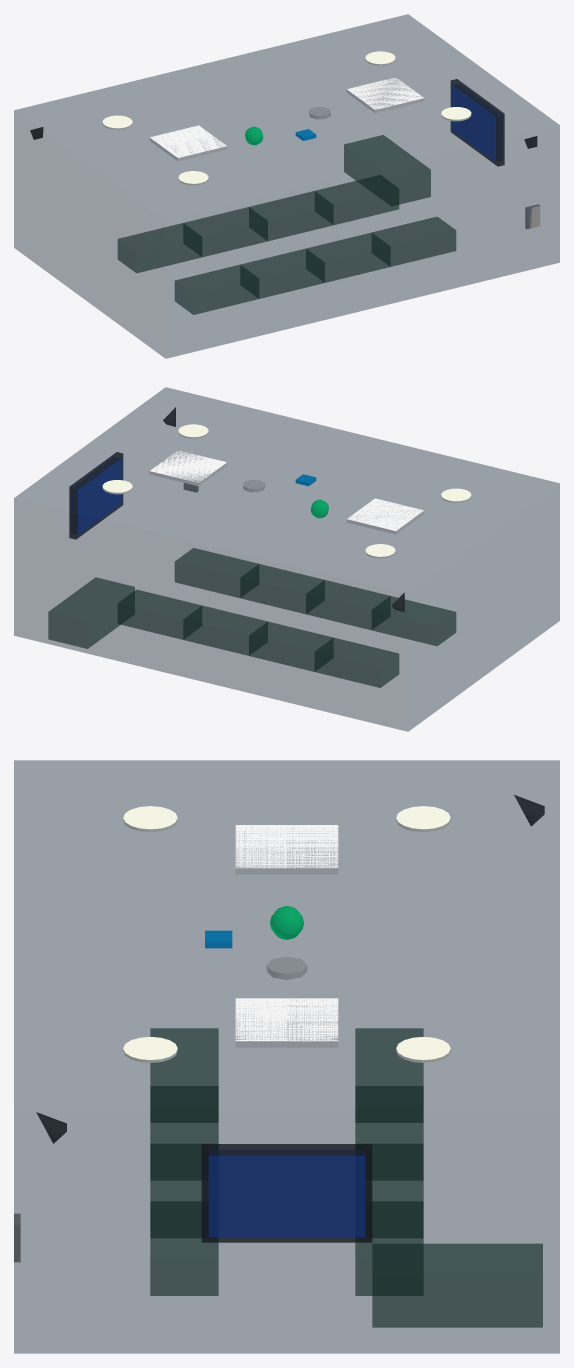
3 views of the same model, one above another, from view 1: azimuth 30°, elevation 25°; view 2: azimuth 150°, elevation 25°; view 3: azimuth 270°, elevation 25° (orthographic). The views are drawn at different scales.
Parts seen in each view (by area): view 1: Arch:WALL_L3-T3, object 17, object 2, object 6, object 10, object 8, object 3, object 7, object 9, object 4, object 5, object 11 (+2 smaller); view 2: Arch:WALL_L3-T3, object 17, object 2, object 10, object 6, object 9, object 4, object 7, object 3, object 8, object 5, object 11 (+2 smaller); view 3: Arch:WALL_L3-T3, object 10, object 17, object 11, object 9, Device:AC1_L3-T3, Device:AC2_L3-T3, object 3, object 7, object 2, object 6, object 5 (+8 smaller).
Boxes of the visible parts, x1,y1,x2,y2 form: Arch:WALL_L3-T3: (14, 14, 559, 358); object 17: (344, 135, 430, 204); object 2: (118, 223, 201, 272); object 6: (175, 265, 258, 314); object 10: (450, 79, 504, 166); object 8: (306, 233, 390, 282); object 3: (184, 207, 267, 256); object 7: (241, 249, 324, 298); object 9: (372, 217, 455, 266); object 4: (249, 191, 333, 240); object 5: (315, 176, 398, 224); object 11: (452, 85, 495, 161); Arch:WALL_L3-T3: (14, 387, 559, 731); object 17: (48, 577, 134, 648); object 2: (315, 638, 398, 687); object 10: (69, 452, 123, 539); object 6: (372, 596, 455, 645); object 9: (175, 548, 258, 597); object 4: (183, 606, 267, 655); object 7: (306, 580, 389, 629); object 3: (249, 622, 332, 671); object 8: (240, 564, 324, 613); object 5: (121, 590, 201, 639); object 11: (78, 458, 121, 534); Arch:WALL_L3-T3: (14, 760, 559, 1353); object 10: (201, 1144, 372, 1242); object 17: (372, 1244, 542, 1327); object 11: (209, 1156, 364, 1236); object 9: (150, 1201, 218, 1295); Device:AC1_L3-T3: (235, 825, 338, 874); Device:AC2_L3-T3: (235, 998, 338, 1047); object 3: (355, 1086, 423, 1143); object 7: (150, 1086, 218, 1143); object 2: (355, 1028, 423, 1085); object 6: (150, 1028, 218, 1085); object 5: (355, 1201, 423, 1295).
Bounding box in the file's own units: 12 × 4.01 × 8.
